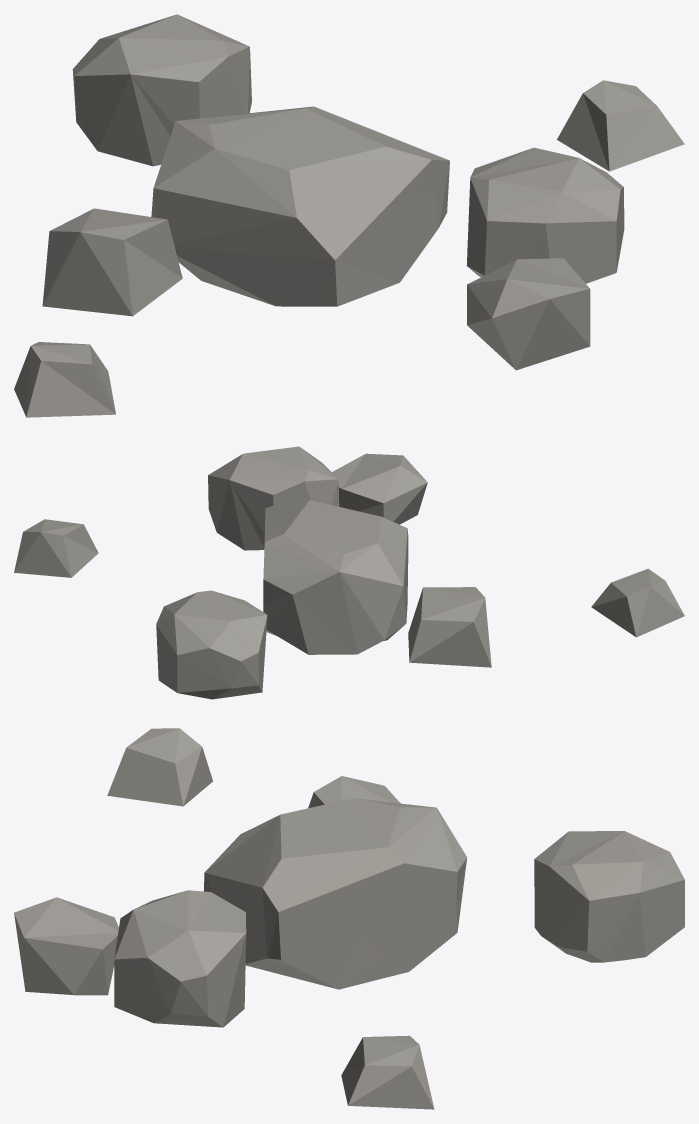
Rendered from ancient_SM_Env_Pebbles_02.gltf.
3 renders of one model, top to bottom at view 1: azimuth 30°, elevation 25°; view 2: azimuth 150°, elevation 25°; view 3: azimuth 270°, elevation 25°, orthographic. The views are drawn at different scales.
Parts seen in each view (by area): view 1: SM_Env_Pebbles_02; view 2: SM_Env_Pebbles_02; view 3: SM_Env_Pebbles_02.
Part boxes in pixels (x1,y1,x2,y2): SM_Env_Pebbles_02: (14,14,684,417); SM_Env_Pebbles_02: (14,446,684,699); SM_Env_Pebbles_02: (14,728,684,1109).
Size of the model in its own units: 1.53 by 0.2811 by 1.26.
Materials: 1 (1 with a texture image).
